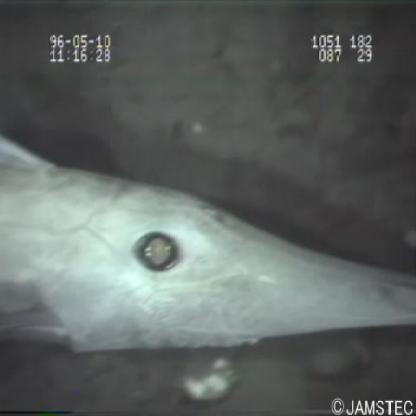Bio: (1, 128, 416, 358)
